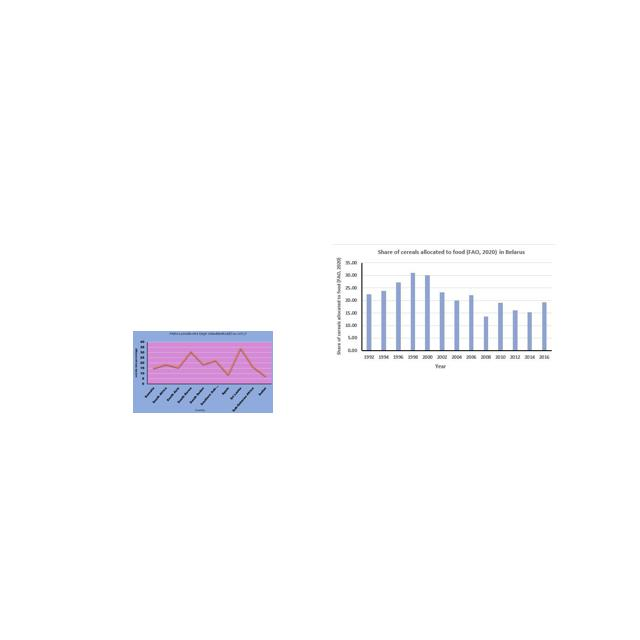Graph: (332, 244, 556, 372), (133, 331, 273, 413)
